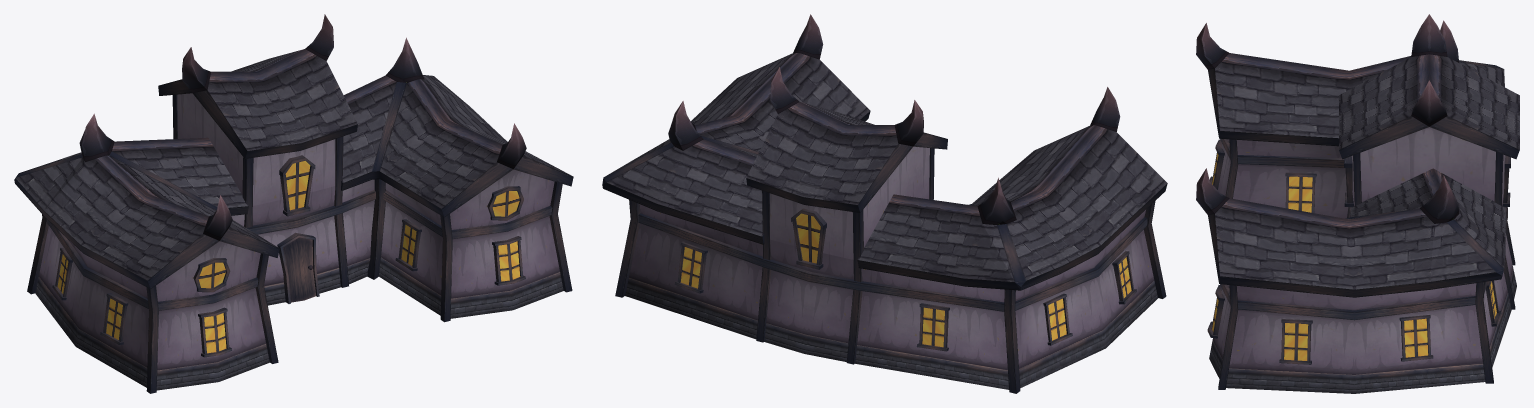
The model's file is Large_House_B.fbx.
3 renders of one model, left to right at view 1: azimuth 30°, elevation 25°; view 2: azimuth 150°, elevation 25°; view 3: azimuth 270°, elevation 25°, orthographic.
Visible parts, largest first — view 1: Large_House_B; view 2: Large_House_B; view 3: Large_House_B.
Boxes of the visible parts, x1,y1,x2,y2 form: Large_House_B: [14, 14, 573, 393]; Large_House_B: [602, 14, 1167, 393]; Large_House_B: [1196, 14, 1519, 393].
Size of the model in its own units: 489 by 253 by 310.
Materials: 1 (1 with a texture image).
